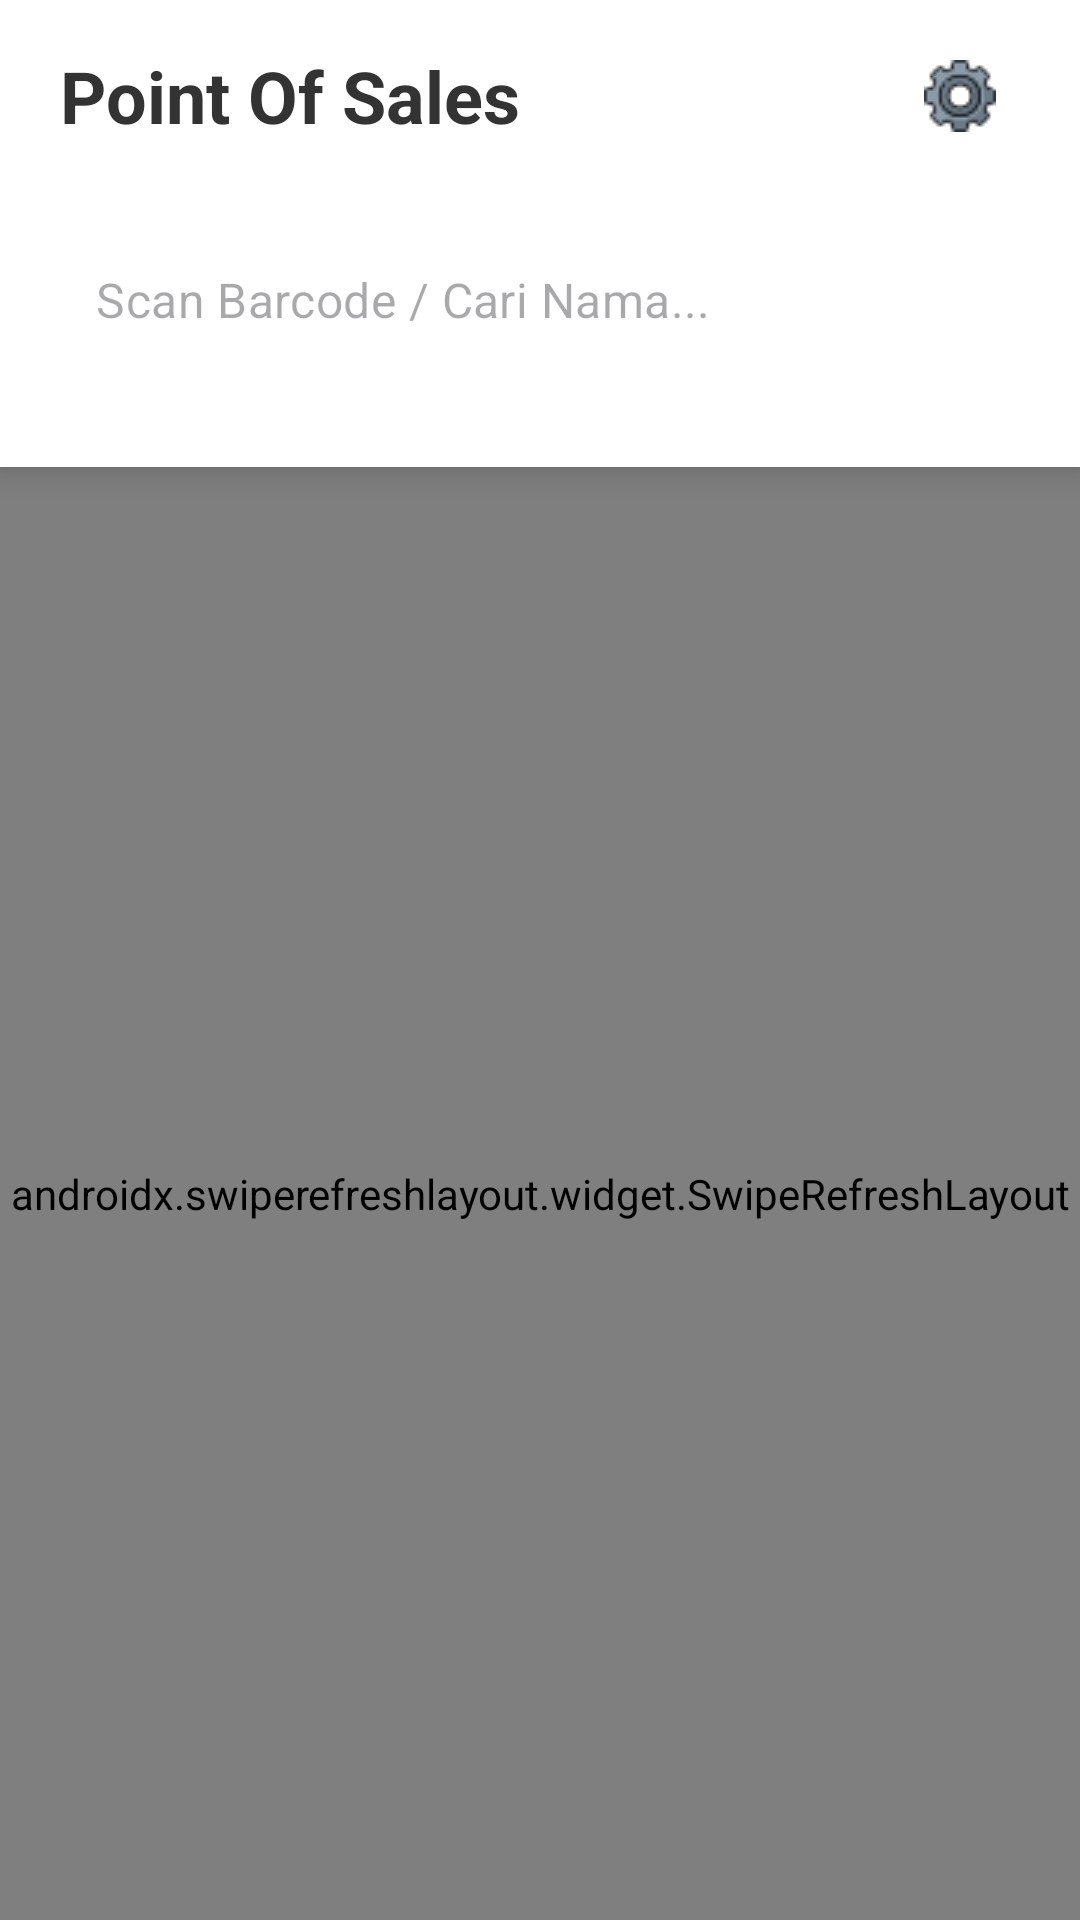

Locate icon controls on the screen. Image size 1080 × 1920, boxes as rect(x1, y1, x2, y2).
gear: rect(924, 60, 996, 132)
